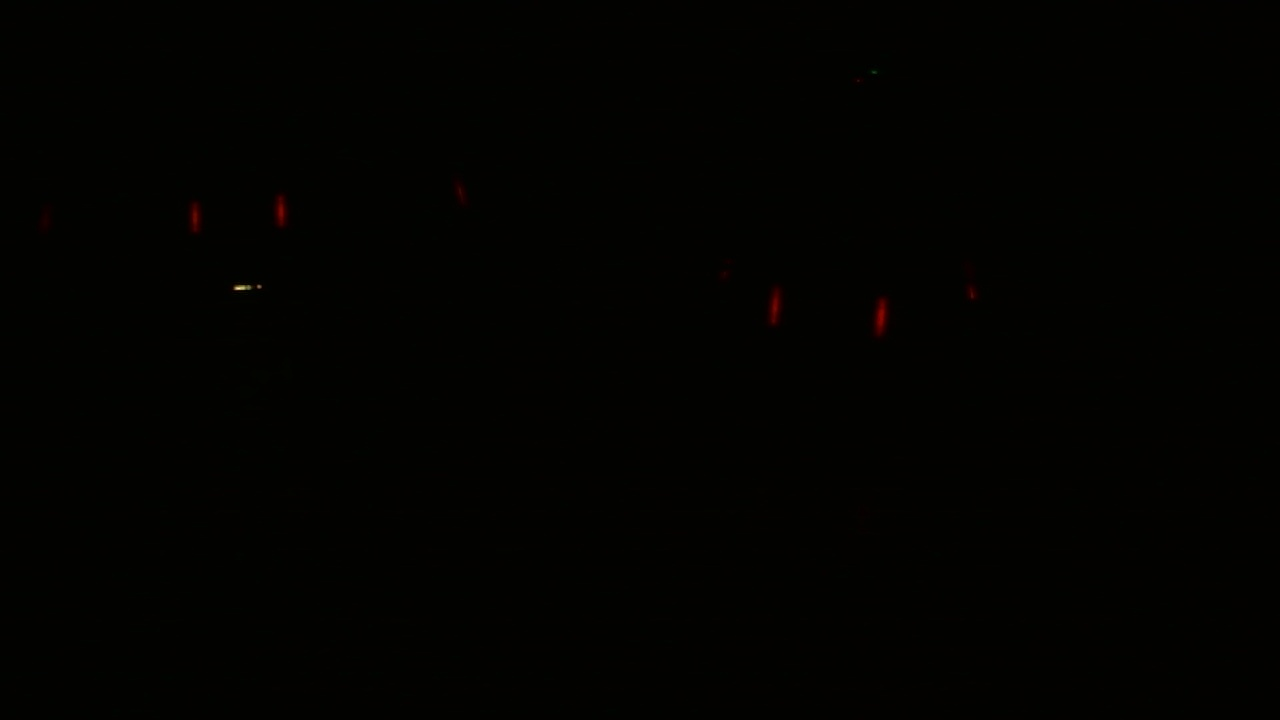pair1: (175, 184, 298, 245)
pair2: (756, 278, 897, 348)
